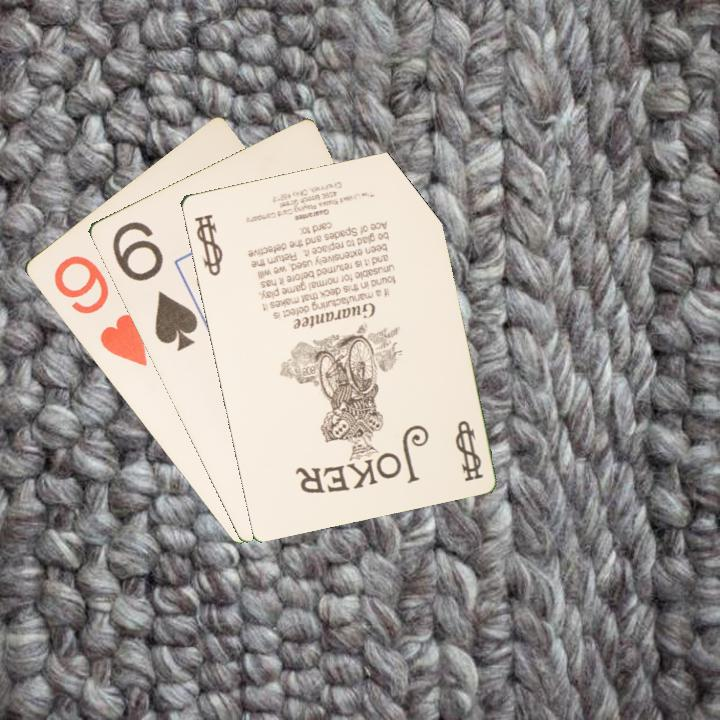6s: (108, 217, 200, 354)
9h: (49, 251, 150, 369)
JK: (190, 210, 225, 279), (451, 416, 486, 484)
